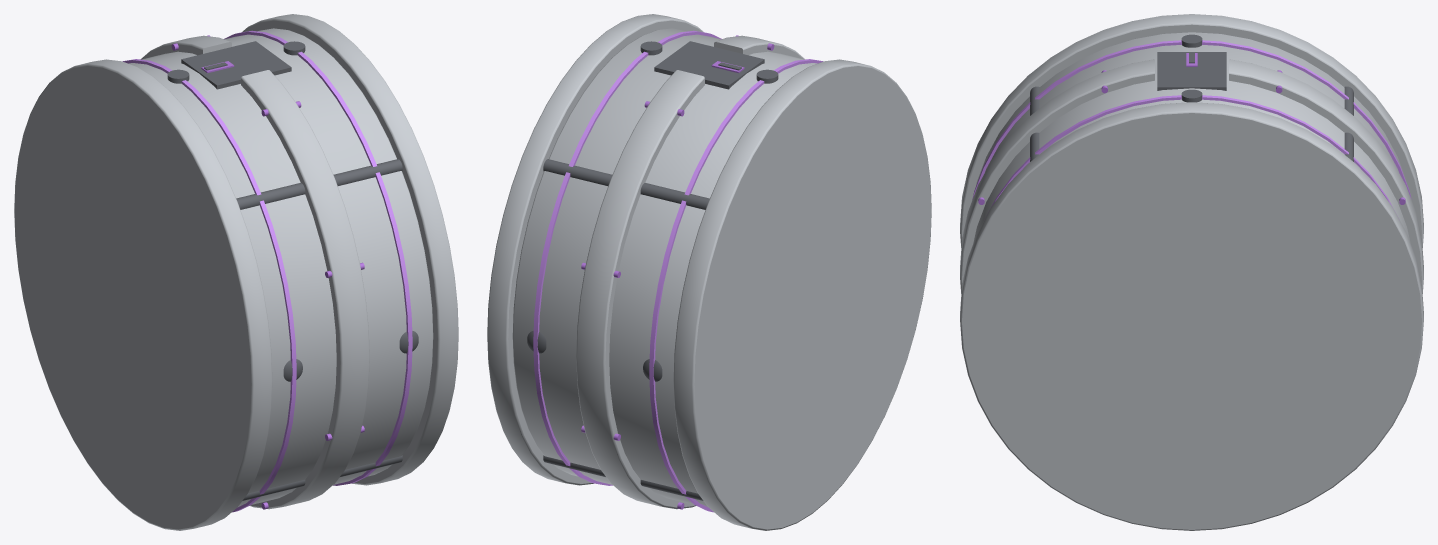
Rendered from AA_MeshAtlas.glb.
The picture shows the model from 3 angles, left to right: view 1: azimuth 30°, elevation 25°; view 2: azimuth 150°, elevation 25°; view 3: azimuth 270°, elevation 25°; orthographic projection. The views are drawn at different scales.
Visible parts, largest first — view 1: AA_Hull, AA_Dark, AA_Glow; view 2: AA_Hull, AA_Dark, AA_Glow; view 3: AA_Hull, AA_Glow, AA_Dark.
Part boxes in pixels (<box>): AA_Hull: <box>14,14,458,530</box>; AA_Dark: <box>167,41,418,500</box>; AA_Glow: <box>122,30,412,512</box>; AA_Hull: <box>487,14,931,530</box>; AA_Dark: <box>527,41,778,500</box>; AA_Glow: <box>533,30,823,512</box>; AA_Hull: <box>960,14,1423,530</box>; AA_Glow: <box>972,40,1411,215</box>; AA_Dark: <box>1030,34,1353,161</box>.
Bounding box in the file's own units: 1 × 2 × 2.
